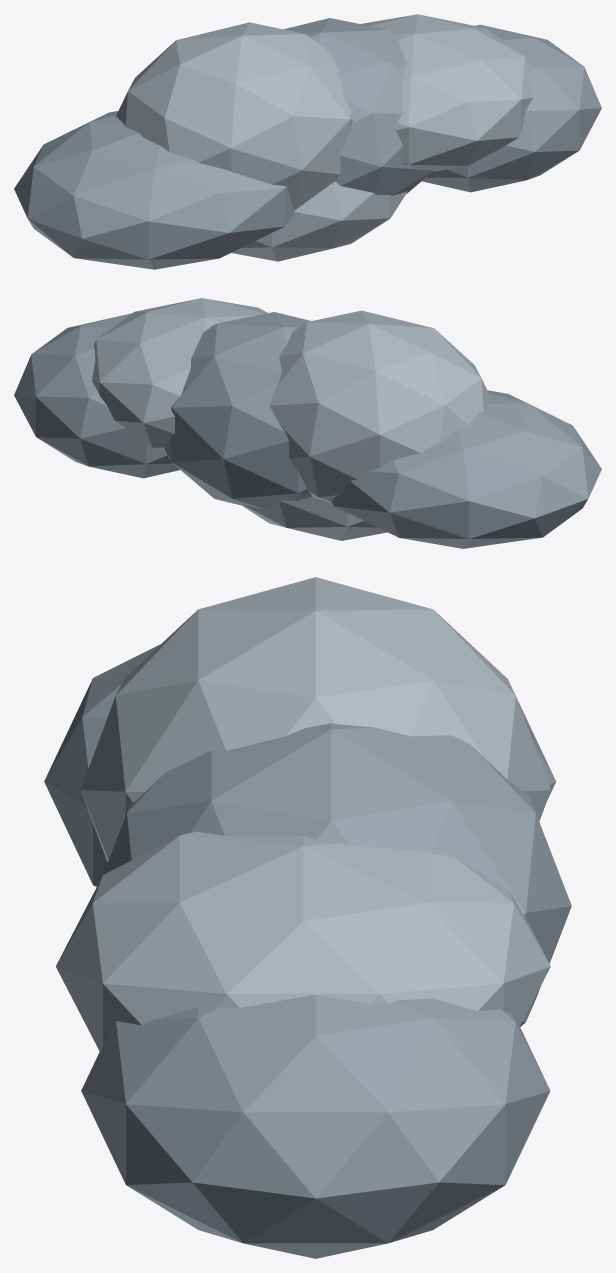
The model's file is cloud-storm-a.glb.
3 views of the same model, one above another, from view 1: azimuth 30°, elevation 25°; view 2: azimuth 150°, elevation 25°; view 3: azimuth 270°, elevation 25° (orthographic). The views are drawn at different scales.
Parts seen in each view (by area): view 1: CloudMass_2, CloudMass_1, CloudMass_4, CloudMass_3, CloudMass_5, CloudMass_6; view 2: CloudMass_2, CloudMass_1, CloudMass_3, CloudMass_4, CloudMass_5, CloudMass_6; view 3: CloudMass_5, CloudMass_4, CloudMass_2, CloudMass_3, CloudMass_1.
Boxes of the visible parts, <box> form: CloudMass_2: <box>116,22,353,210</box>; CloudMass_1: <box>14,111,294,269</box>; CloudMass_4: <box>361,14,533,171</box>; CloudMass_3: <box>284,18,433,195</box>; CloudMass_5: <box>422,24,601,192</box>; CloudMass_6: <box>231,181,407,261</box>; CloudMass_2: <box>269,310,492,502</box>; CloudMass_1: <box>331,390,601,548</box>; CloudMass_3: <box>164,312,312,509</box>; CloudMass_4: <box>92,298,267,449</box>; CloudMass_5: <box>14,313,179,478</box>; CloudMass_6: <box>241,496,387,540</box>; CloudMass_5: <box>81,994,550,1258</box>; CloudMass_4: <box>56,831,550,1051</box>; CloudMass_2: <box>80,577,550,862</box>; CloudMass_3: <box>103,723,571,1026</box>; CloudMass_1: <box>44,644,556,886</box>.
Bounding box in the file's own units: 4.11 × 1.51 × 1.69.
